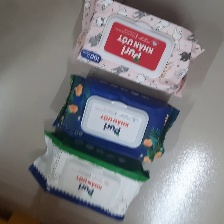Puri Trang: (27, 130, 150, 223)
Puri Xanh: (51, 72, 180, 164)
Puri hong: (73, 1, 207, 102)
